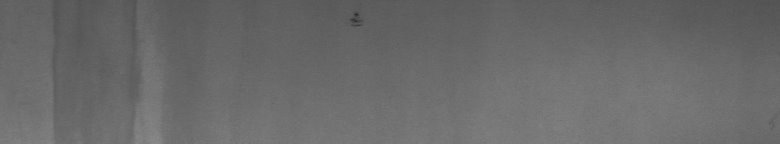fi: (349, 9, 363, 32)
